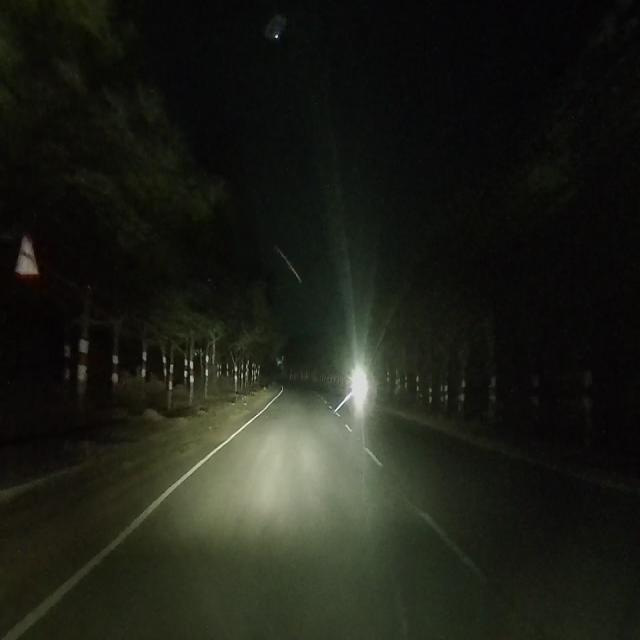left-hand-curve: (16, 228, 40, 270)
